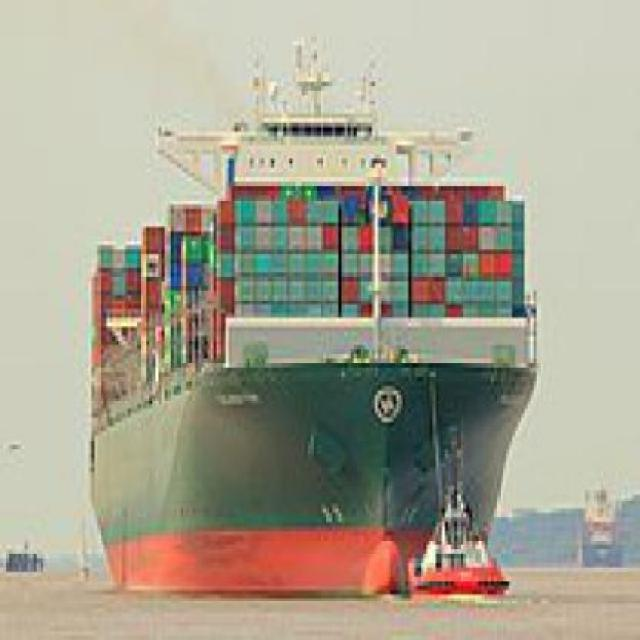container: (77, 19, 553, 619)
